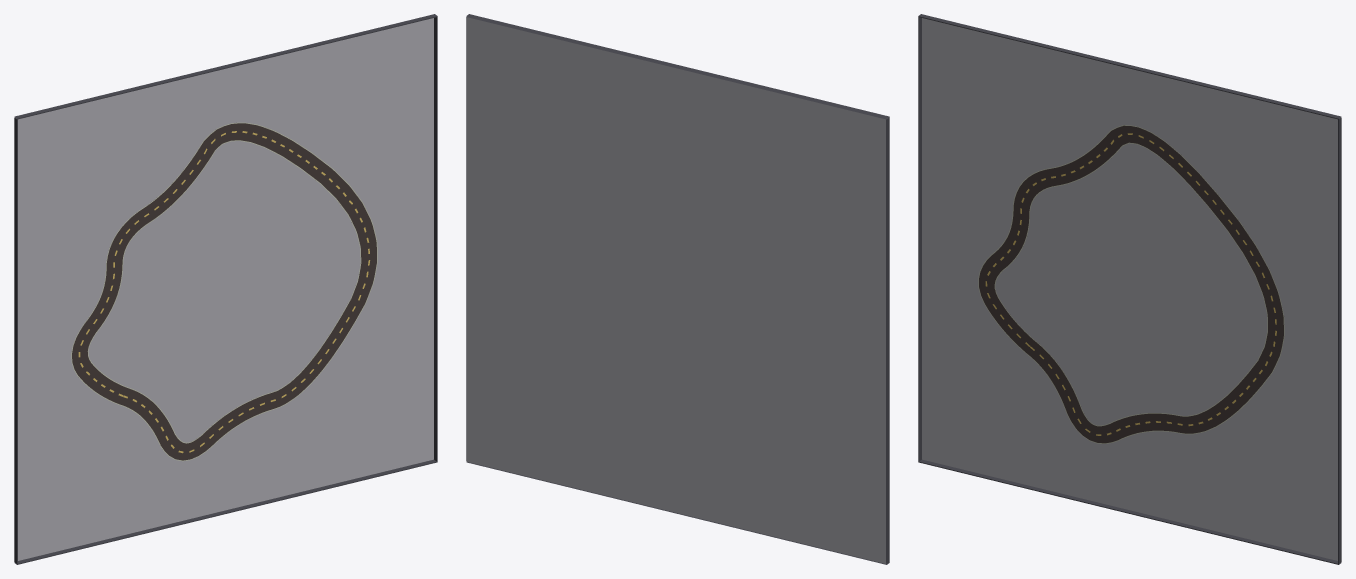
Rendered from track.obj.
The picture shows the model from 3 angles, left to right: view 1: azimuth 30°, elevation 25°; view 2: azimuth 150°, elevation 25°; view 3: azimuth 330°, elevation 25°; orthographic projection.
Size of the model in its own units: 25.01 by 25.36 by 0.3.
5 materials, 5 textured.
